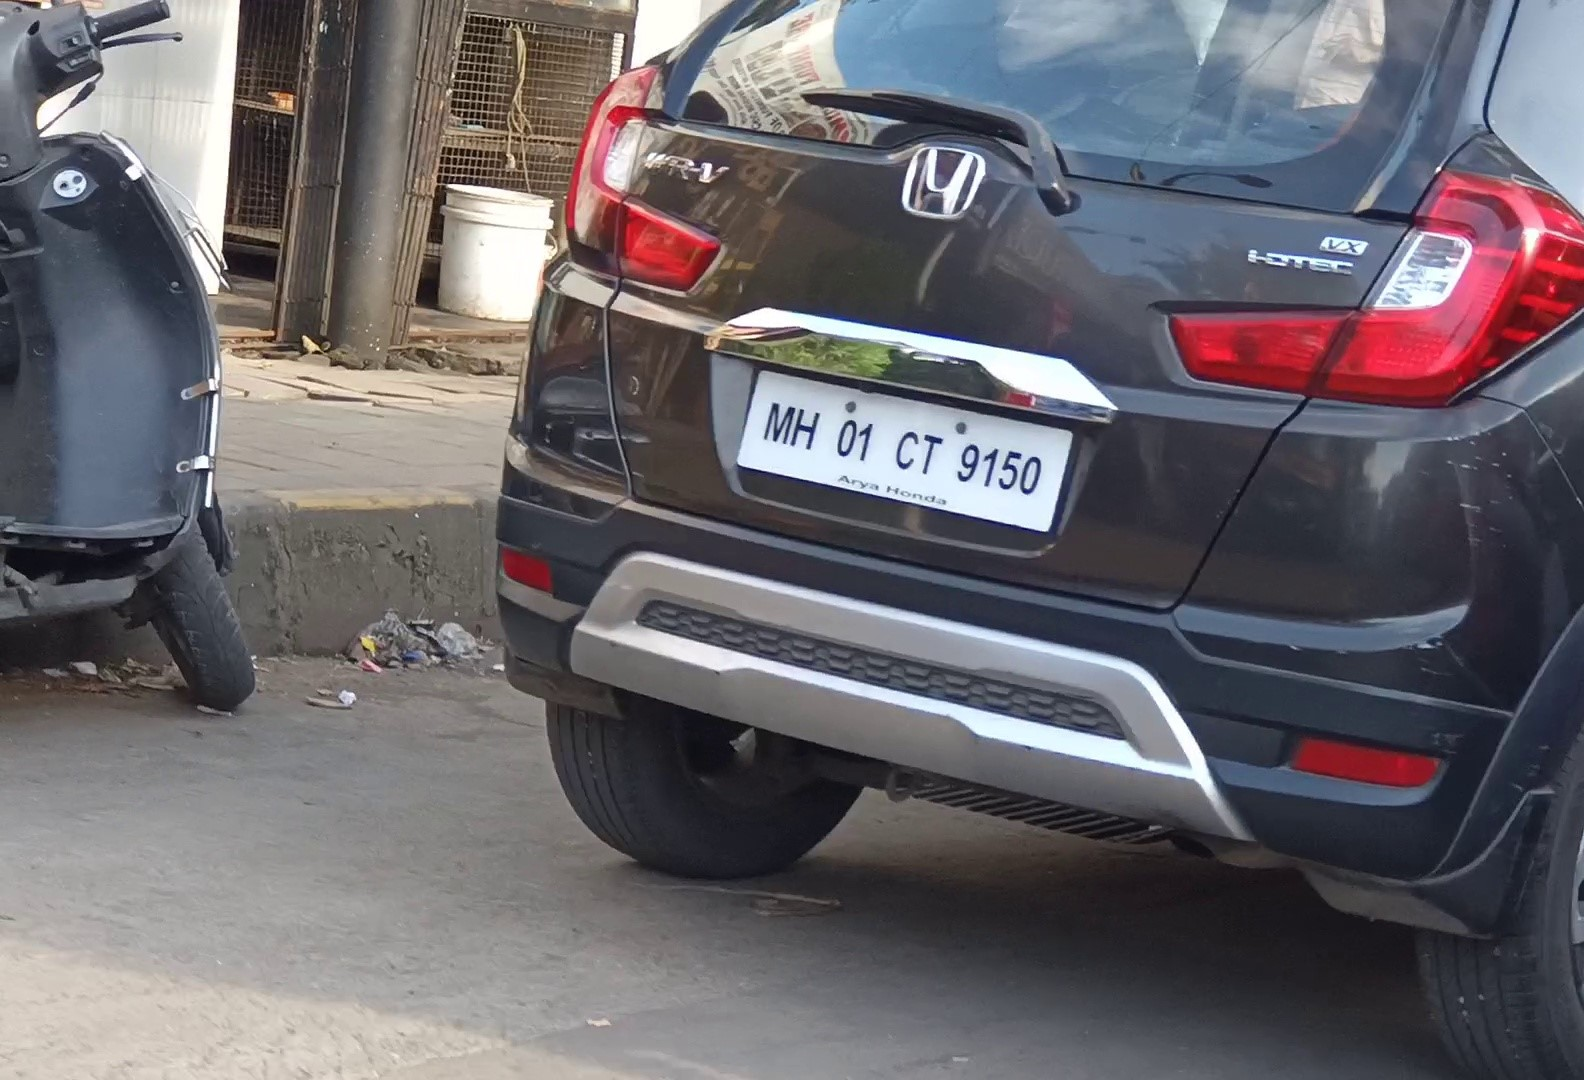MH01CT9150: (734, 369, 1073, 534)
